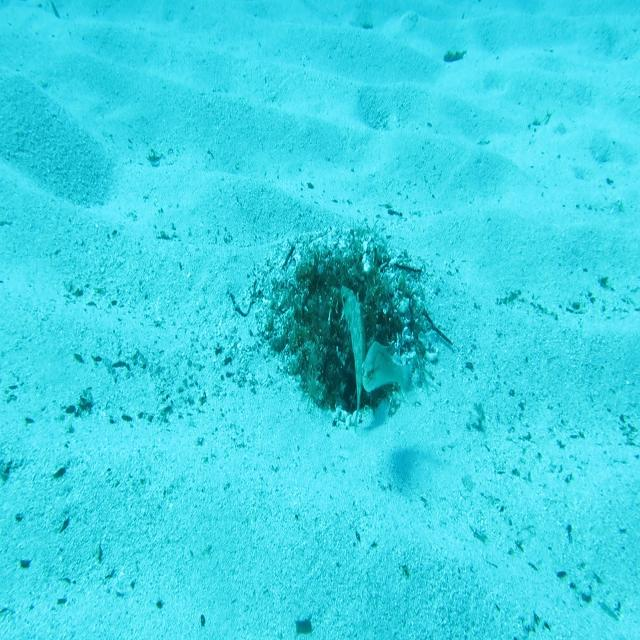FAN: (340, 284, 367, 435)
core_nest: (320, 268, 363, 297)
female: (360, 340, 421, 416)
nest: (242, 210, 440, 441)
vegetation: (442, 48, 468, 64)
